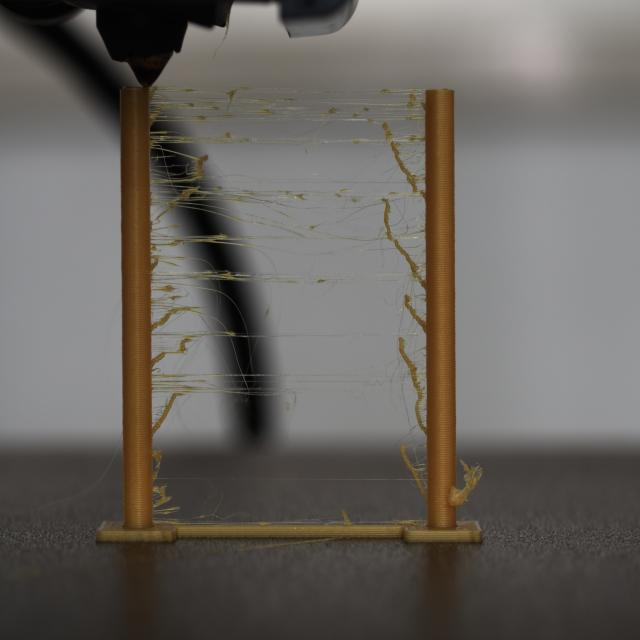Warping: (151, 89, 424, 443)
